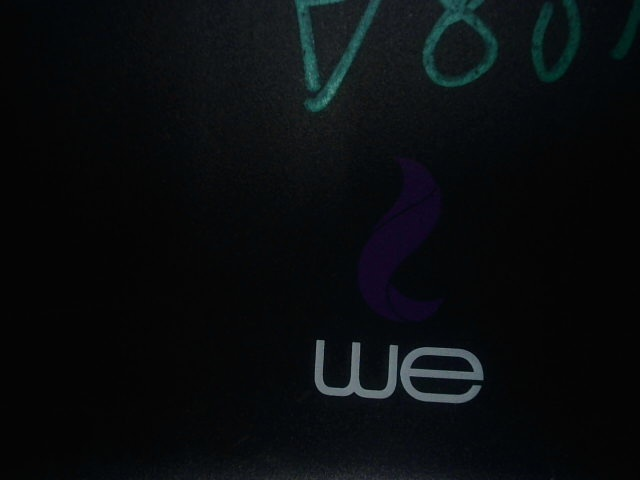AT_We: (299, 146, 490, 411)
